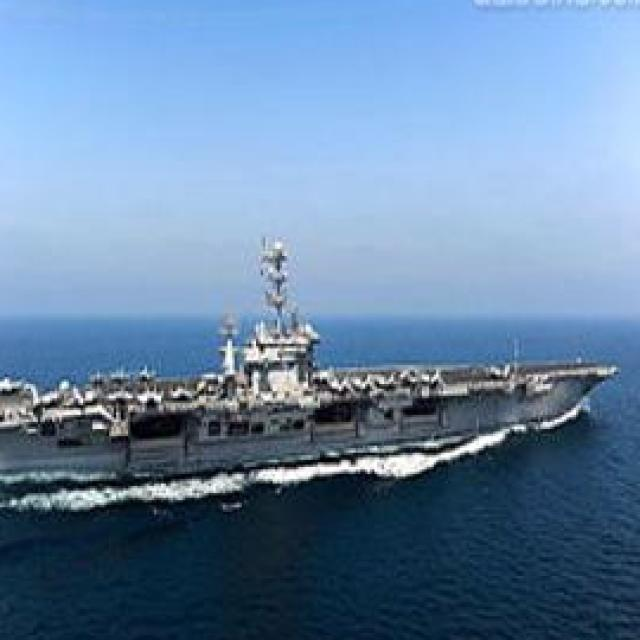navalvessels: (0, 197, 621, 500)
